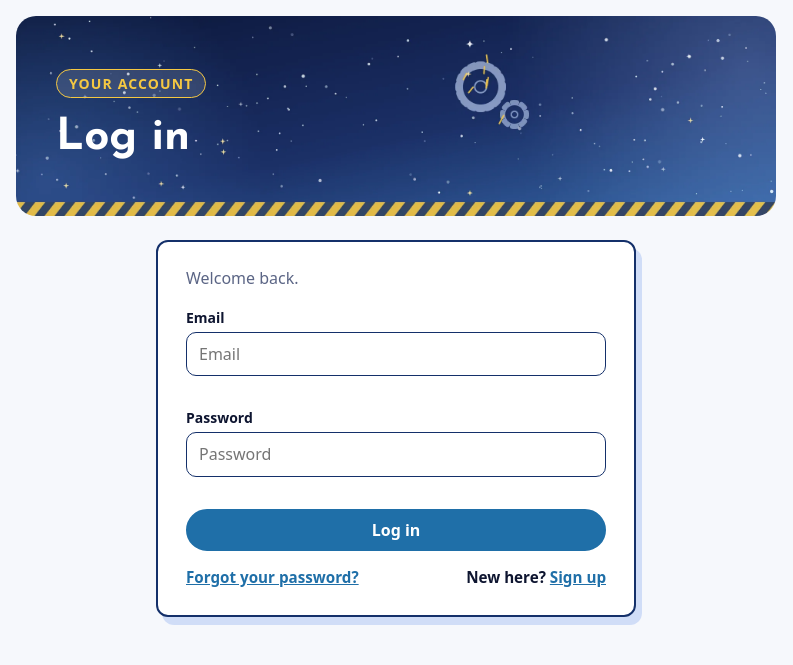
Test: log in › says a wrong email or password in plain words, keeps what was typed, and does not say which one is wrong
This screenshot has width=793, height=665.
Type "gill@example.com" into the field labelled "Email" at (396, 354), box [186,332,606,376]
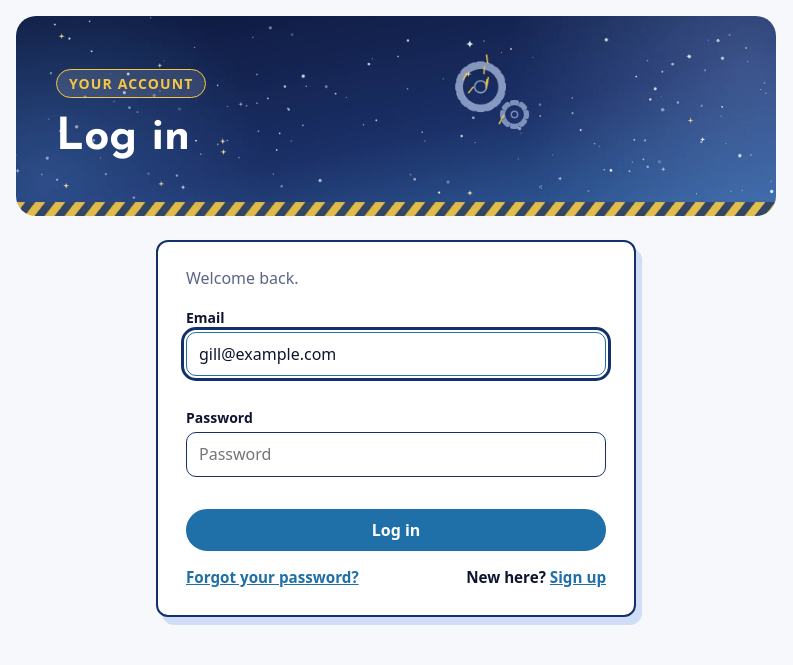
Type "nope" into the password field labelled "Password" at (396, 454), box [186,432,606,477]
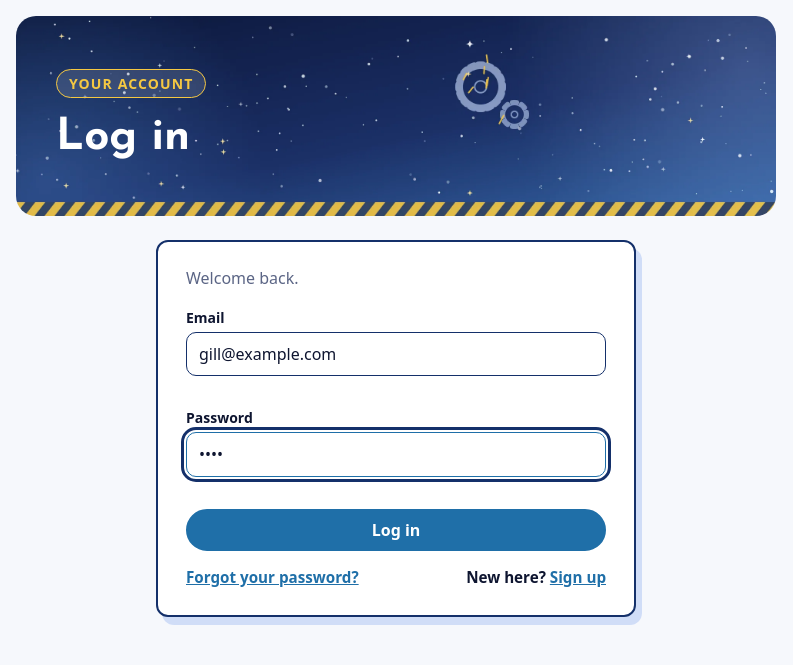
Click the button "Log in" at (396, 530), box [186,509,606,551]
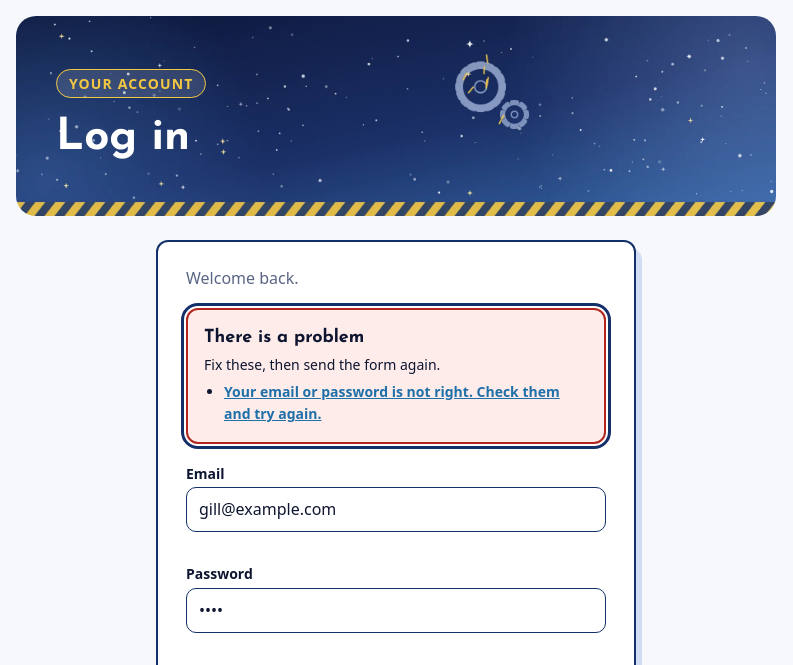
Check: the message shows "Your email or password is not right. Check them and try again.", box [224,382,560,423]
